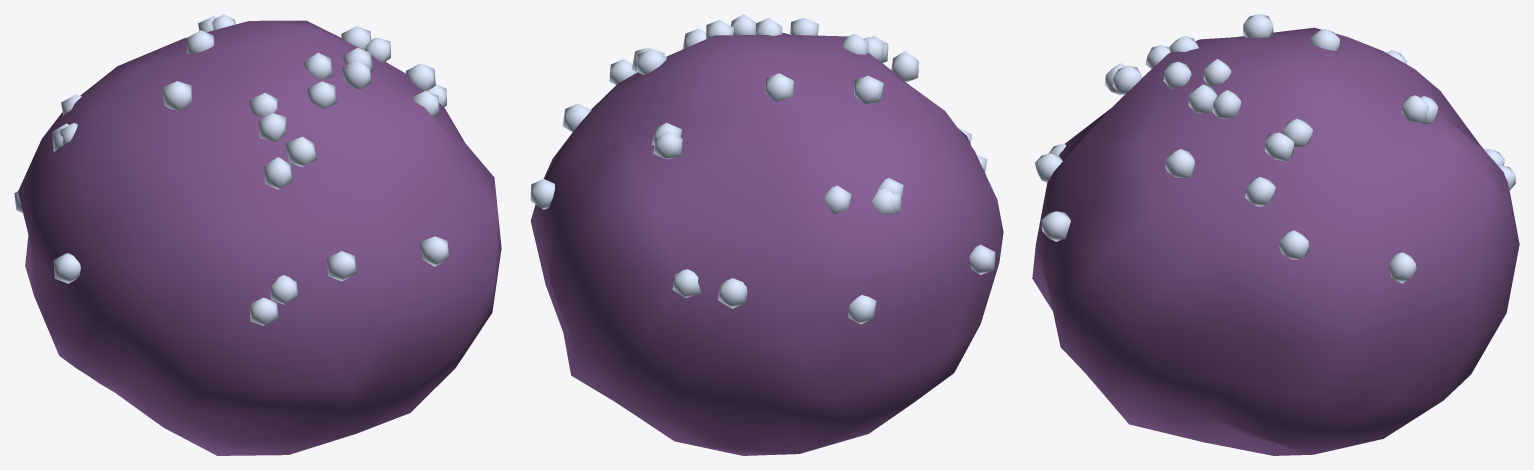
Rendered from fk_spore_puff.fbx.
The picture shows the model from 3 angles, left to right: view 1: azimuth 30°, elevation 25°; view 2: azimuth 150°, elevation 25°; view 3: azimuth 270°, elevation 25°; orthographic projection.
Parts seen in each view (by area): view 1: fk_spore_puff; view 2: fk_spore_puff; view 3: fk_spore_puff.
Part boxes in pixels (x1,y1,x2,y2): fk_spore_puff: (14, 14, 501, 455); fk_spore_puff: (530, 14, 1003, 455); fk_spore_puff: (1032, 14, 1519, 455).
Bounding box in the file's own units: 173 × 150 × 174.
